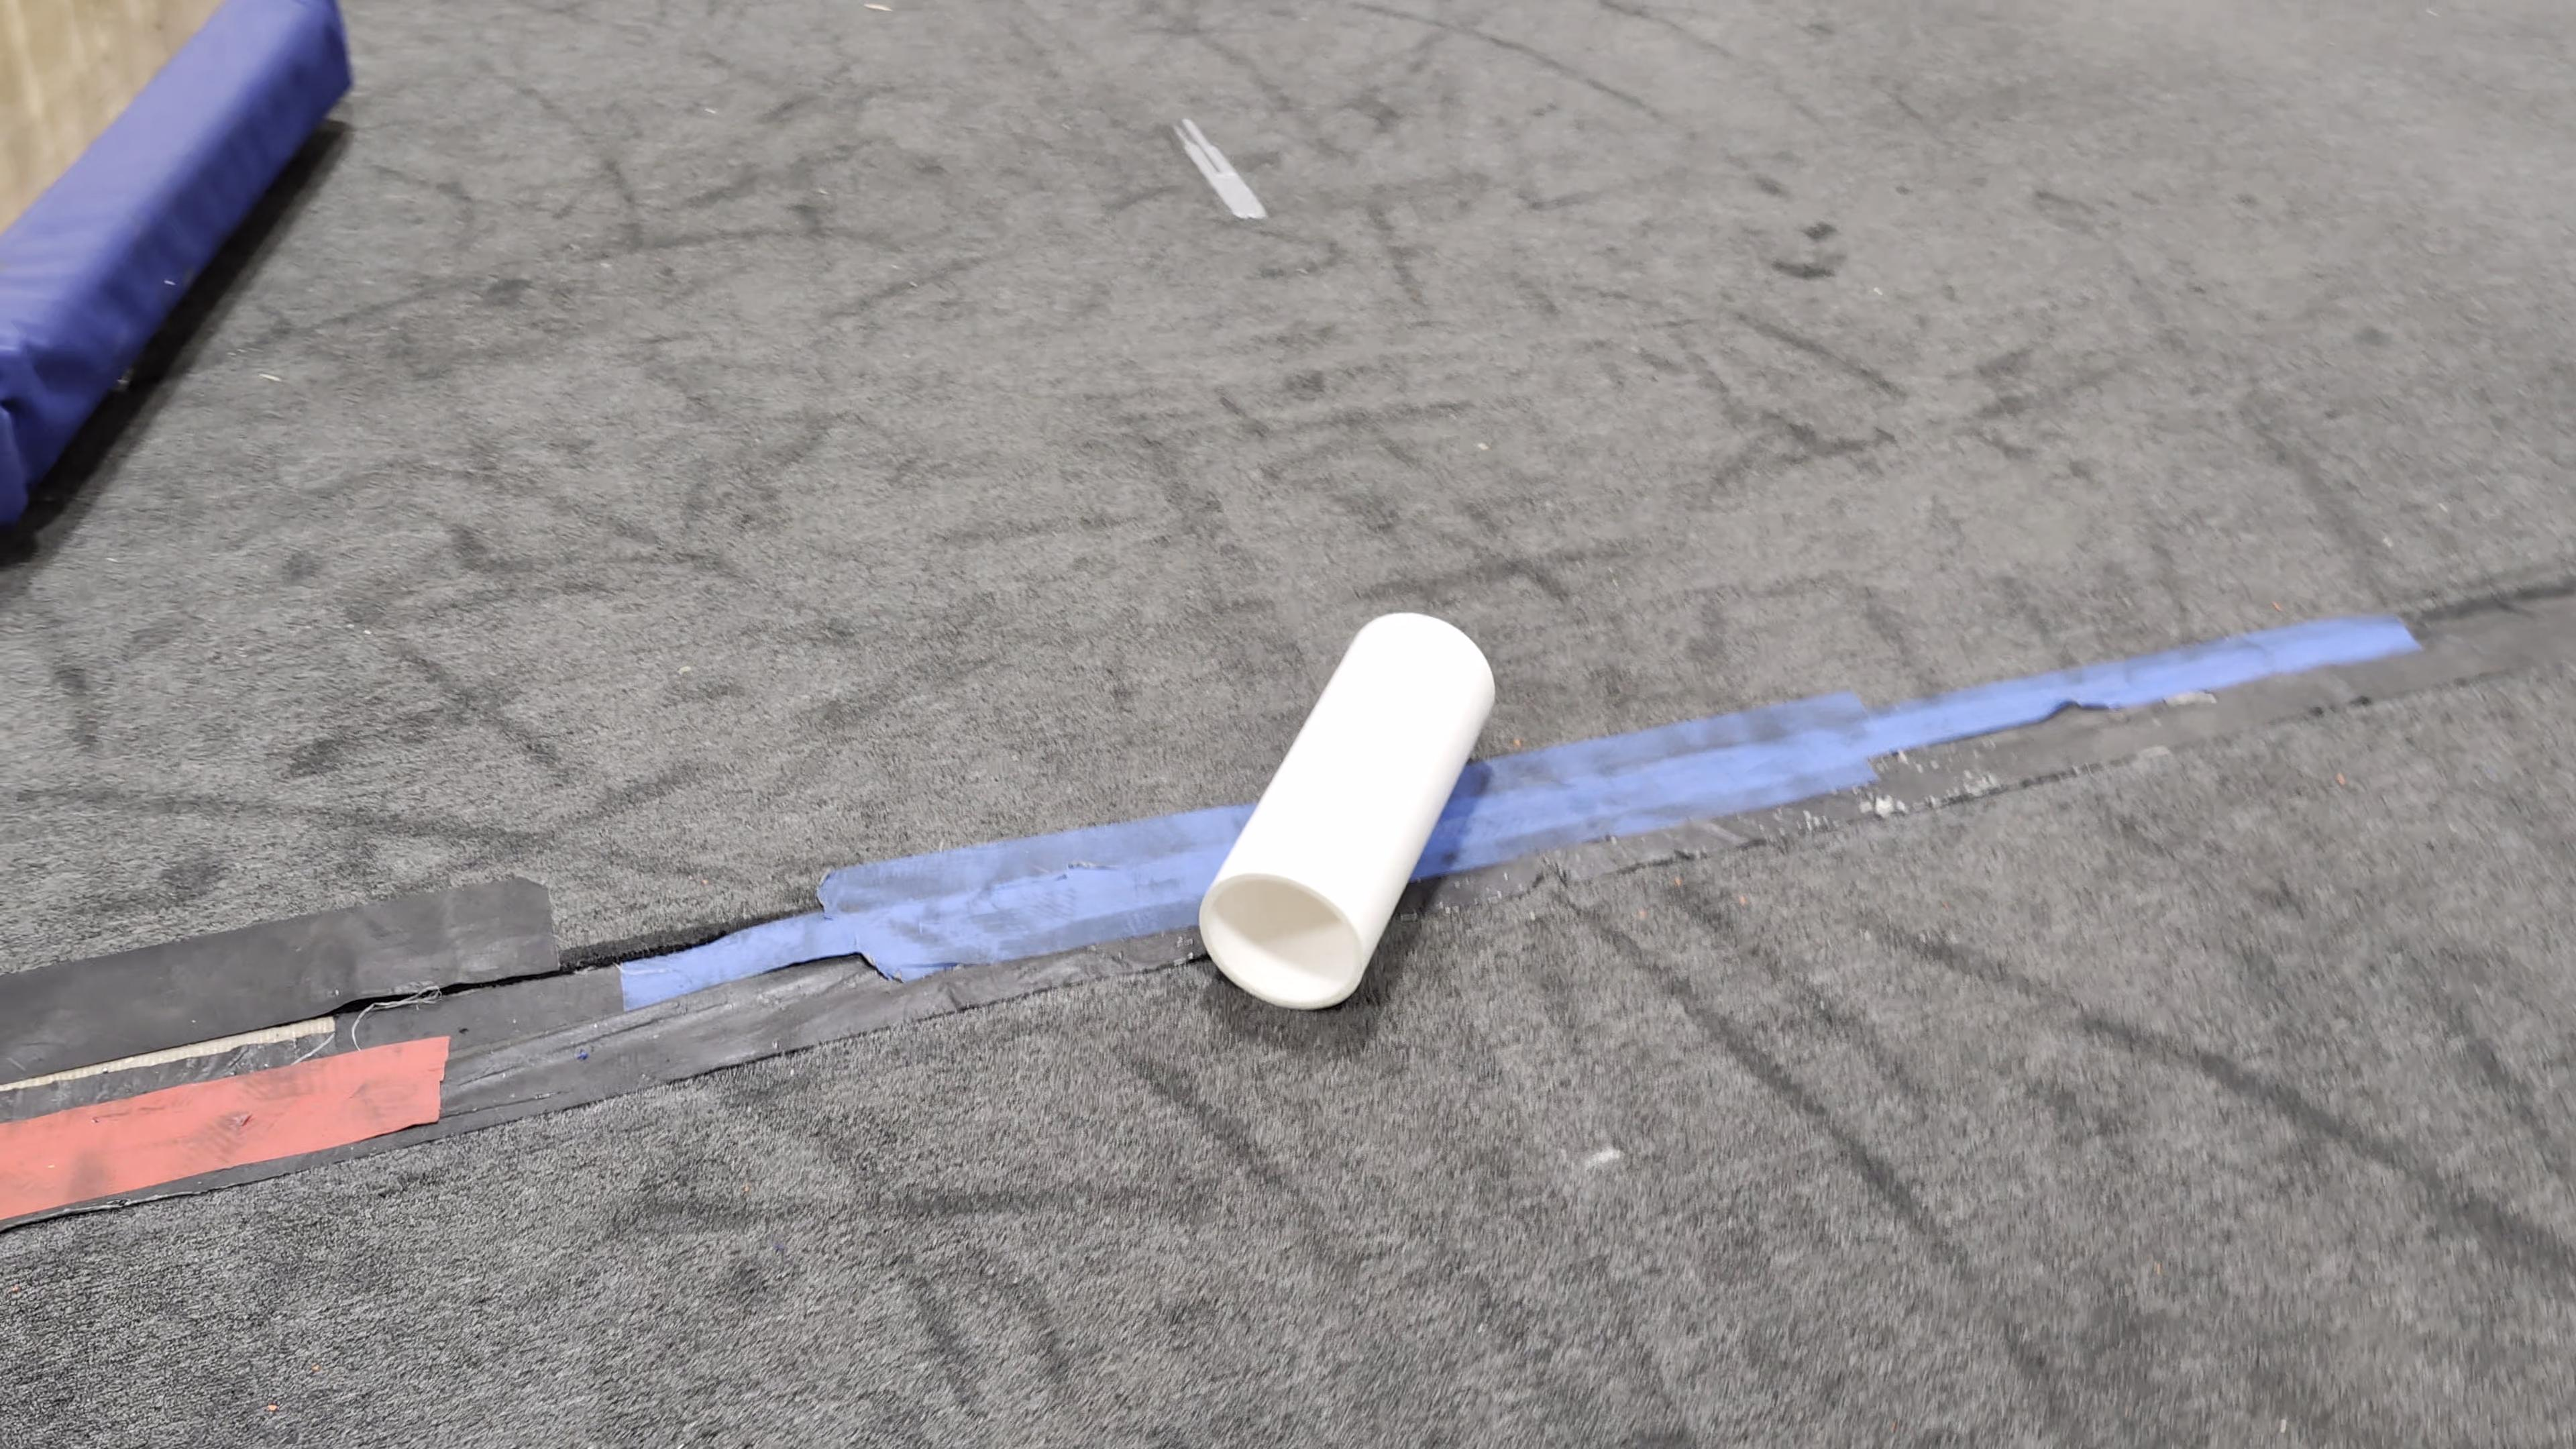coral: (1196, 603, 1499, 1008)
